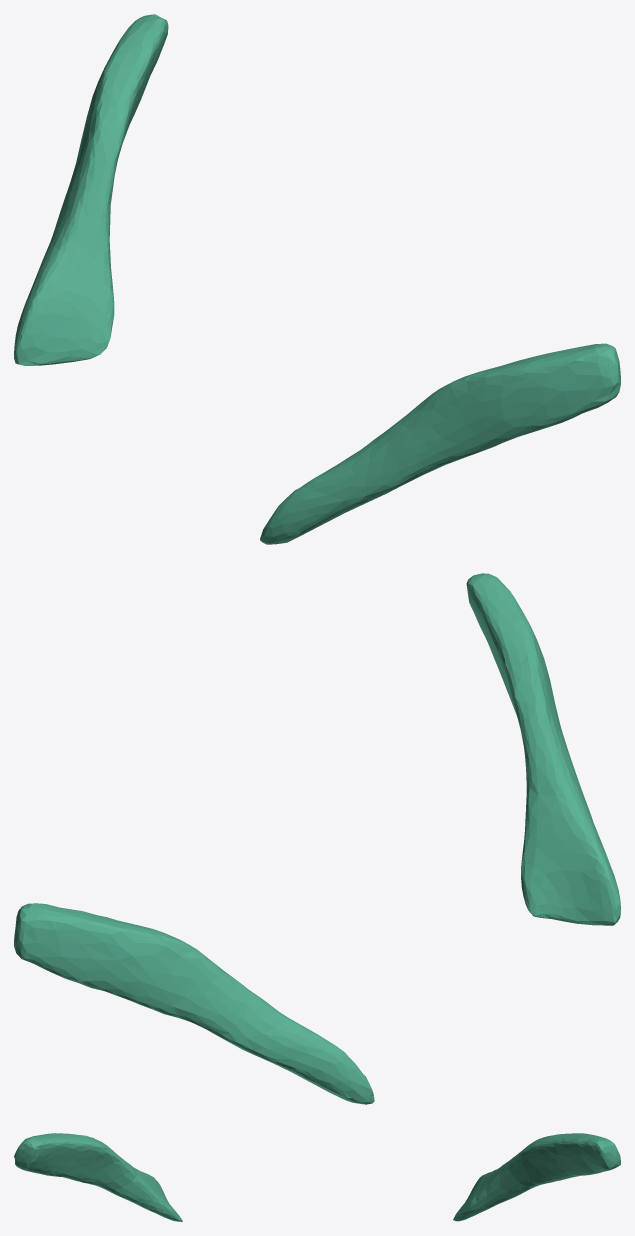
The picture shows the model from 3 angles, top to bottom: view 1: azimuth 30°, elevation 25°; view 2: azimuth 150°, elevation 25°; view 3: azimuth 270°, elevation 25°; orthographic projection. The views are drawn at different scales.
Parts seen in each view (by area): view 1: 783.obj; view 2: 783.obj; view 3: 783.obj.
Part boxes in pixels (x1,y1,x2,y2): 783.obj: [14, 14, 620, 544]; 783.obj: [14, 573, 620, 1104]; 783.obj: [14, 1133, 620, 1221].
Size of the model in its own units: 2173 by 1791 by 7105.
